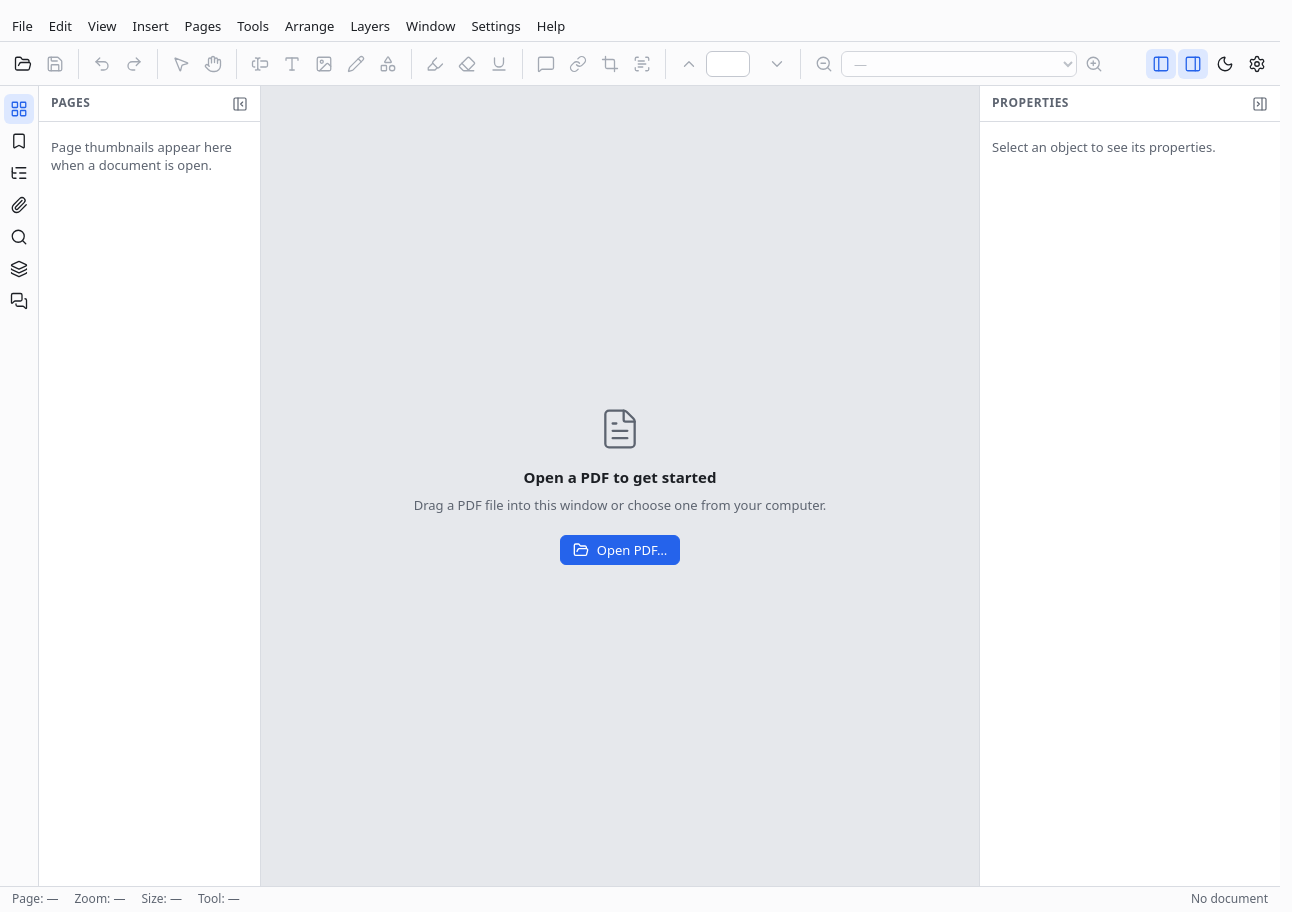
Test: opening documents › opens a PDF, shows its pages, tab, thumbnails and status
Click the button named "Open…". click: {"x": 23, "y": 64}
box: x1=8 y1=48 x2=38 y2=78
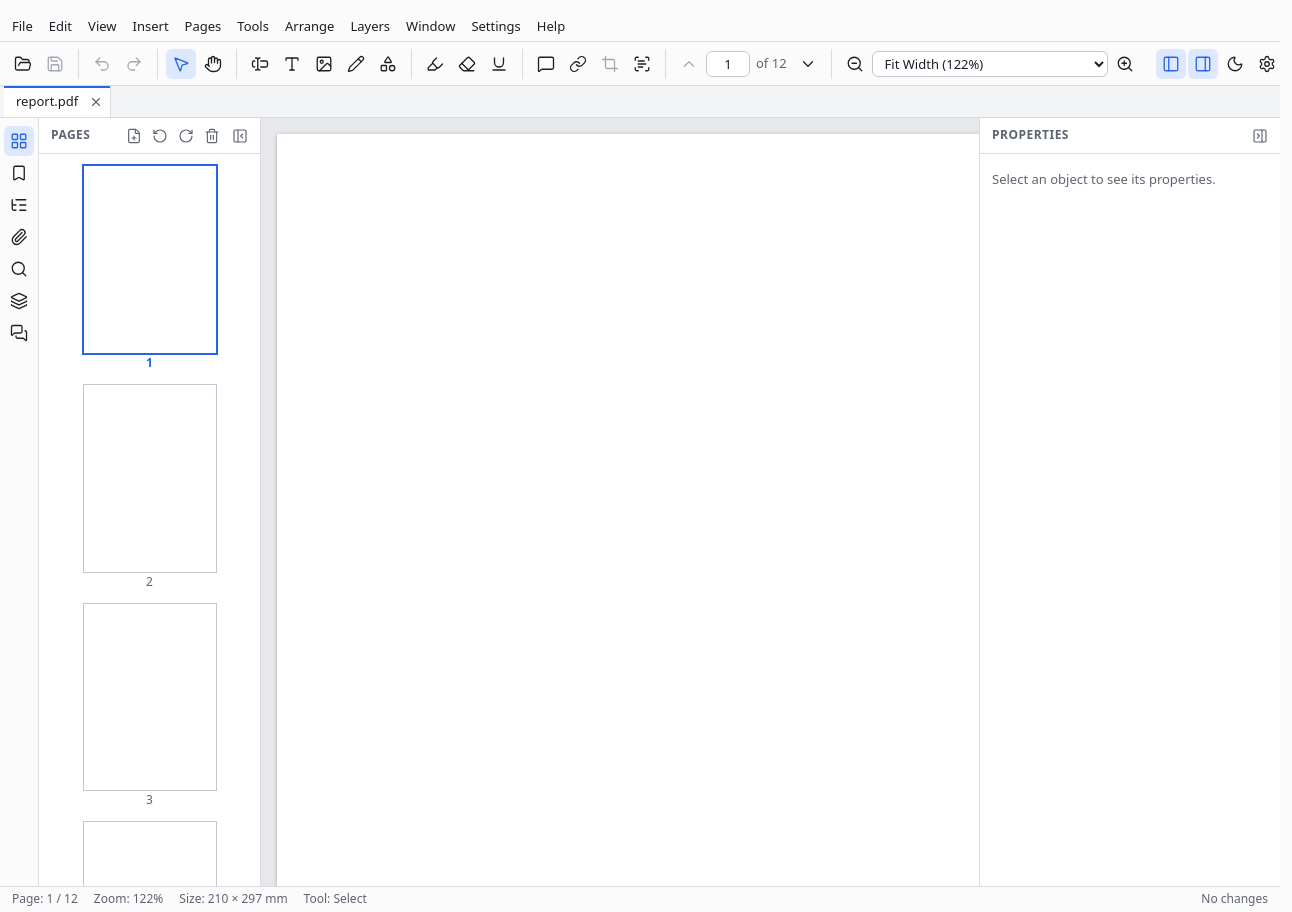
Expected: the list named "Page thumbnails" is shown, x1=39 y1=154 x2=260 y2=886
Expected: the element with test id "status-page" shows "1 / 12", x1=46 y1=890 x2=78 y2=907
Expected: the text with test id "document-status" reads "No changes", x1=1201 y1=890 x2=1268 y2=907
